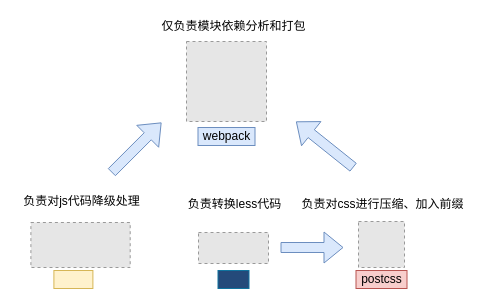
Image size: 485x306. Some labels were removed from this diagram. Grey dashed boxes stand in for pictures. Each missing label, with the centre of its shape:
"babel" goes at [73,279].
"less" goes at [233,279].
